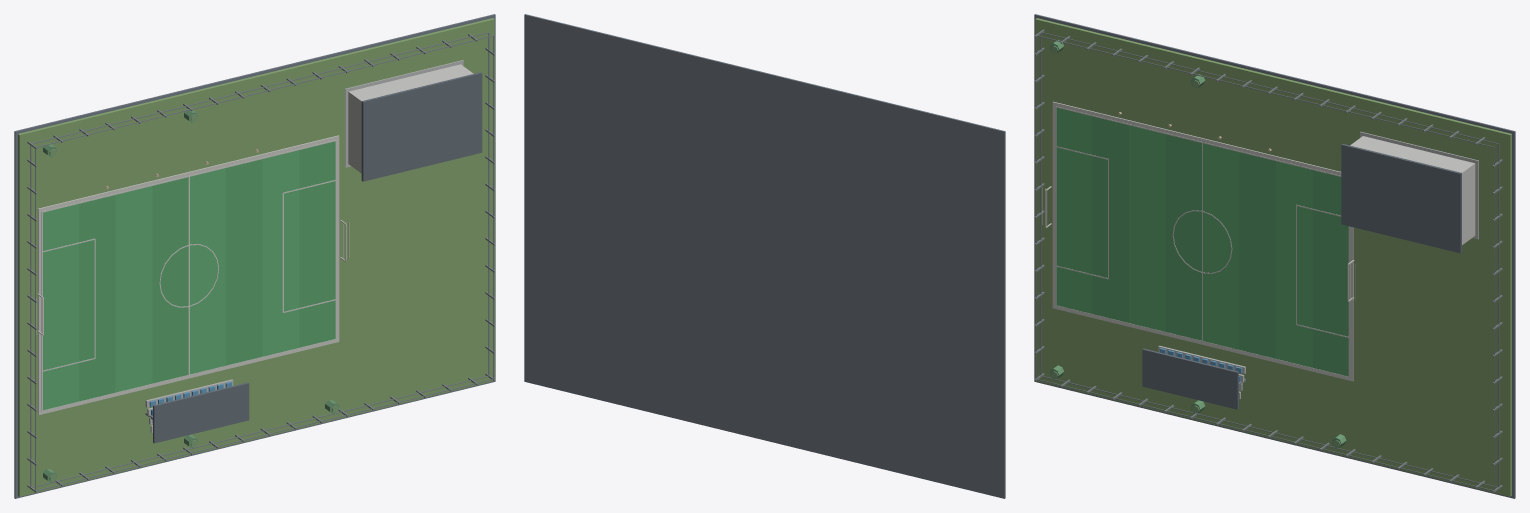
The model's file is youth_academy_level_1.glb.
3 views of the same model, side by side, from view 1: azimuth 30°, elevation 25°; view 2: azimuth 150°, elevation 25°; view 3: azimuth 330°, elevation 25° (orthographic).
Visible parts, largest first — view 1: grass, pitch, stripe, roof, white, fence, trim, wall, concrete, tree; view 2: trim; view 3: grass, stripe, pitch, roof, fence, white, trim, wall, concrete, tree.
Boxes of the visible parts, left/top/right/bottom form: grass: left=18, top=18, right=494, bottom=496; pitch: left=79, top=141, right=335, bottom=401; stripe: left=43, top=150, right=299, bottom=410; roof: left=153, top=72, right=482, bottom=443; white: left=36, top=135, right=349, bottom=415; fence: left=27, top=32, right=495, bottom=492; trim: left=14, top=14, right=495, bottom=498; wall: left=348, top=64, right=473, bottom=173; concrete: left=145, top=60, right=463, bottom=432; tree: left=43, top=109, right=339, bottom=482; trim: left=524, top=14, right=1005, bottom=498; grass: left=1035, top=18, right=1511, bottom=496; stripe: left=1056, top=107, right=1312, bottom=367; pitch: left=1092, top=116, right=1348, bottom=376; roof: left=1142, top=144, right=1461, bottom=409; fence: left=1034, top=29, right=1502, bottom=492; white: left=1042, top=101, right=1355, bottom=381; trim: left=1034, top=14, right=1515, bottom=498; wall: left=1350, top=136, right=1475, bottom=244; concrete: left=1158, top=131, right=1478, bottom=399; tree: left=1050, top=40, right=1346, bottom=447.
Size of the model in its own units: 55.6 by 40.6 by 4.28.
